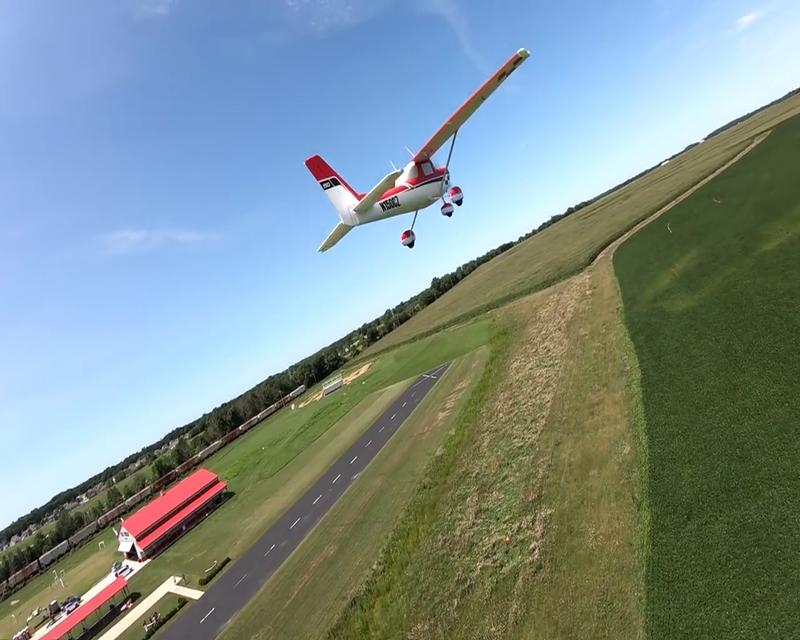UAV: (305, 46, 532, 252)
